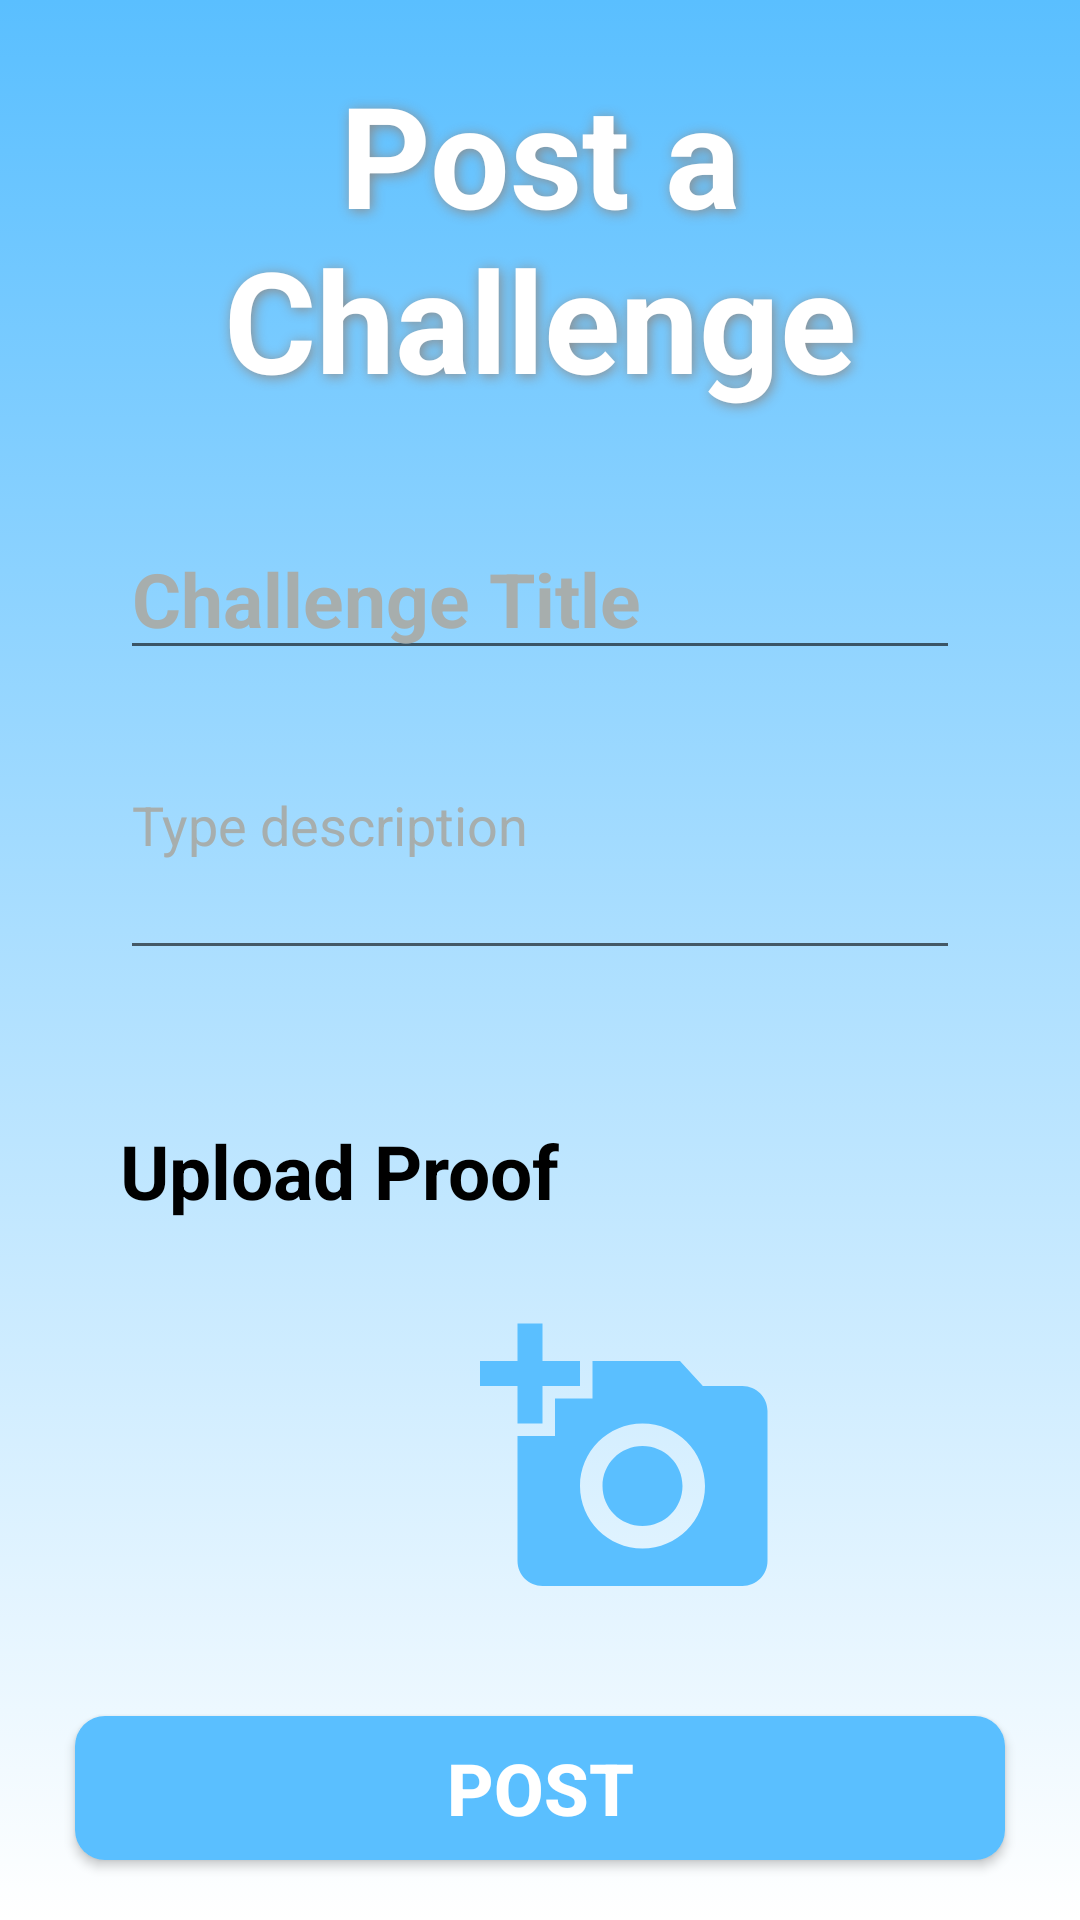

Screen size 1080*1920. Icon name, then its center in pixels as point (x, y):
add photo: point (628, 1455)
